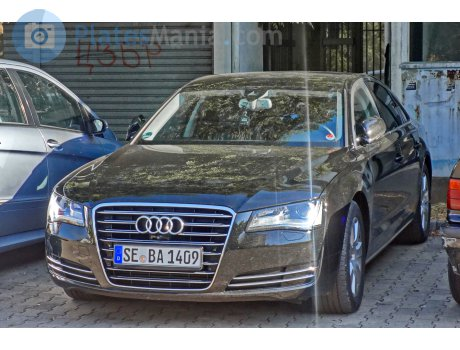License Plates: (120, 244, 201, 266)
